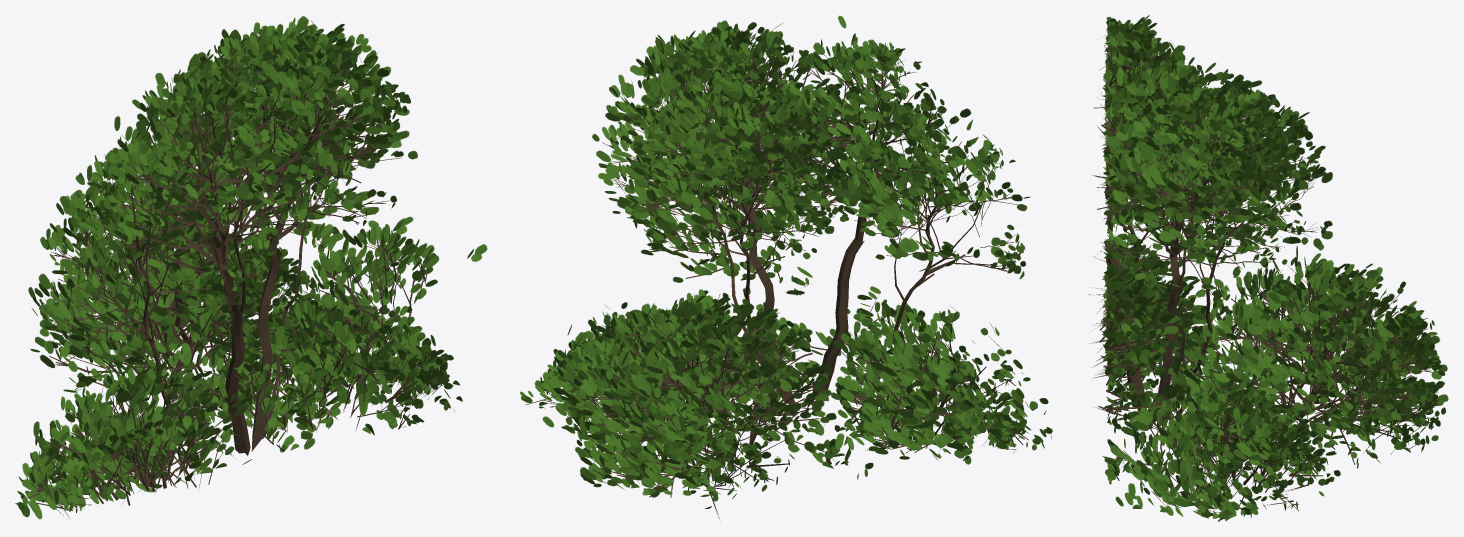
The picture shows the model from 3 angles, left to right: view 1: azimuth 30°, elevation 25°; view 2: azimuth 150°, elevation 25°; view 3: azimuth 270°, elevation 25°; orthographic projection. The views are drawn at different scales.
Visible parts, largest first — view 1: oak 01.001_trunk_Mat.001_0.485; view 2: oak 01.001_trunk_Mat.001_0.485; view 3: oak 01.001_trunk_Mat.001_0.485.
Boxes of the visible parts, box(x1,y1,x2,y2) form: oak 01.001_trunk_Mat.001_0.485: box(15, 16, 487, 519); oak 01.001_trunk_Mat.001_0.485: box(519, 15, 1052, 518); oak 01.001_trunk_Mat.001_0.485: box(1089, 15, 1448, 521).
Bounding box in the file's own units: 3.91 × 3.27 × 2.73.
2 materials, 1 textured.
